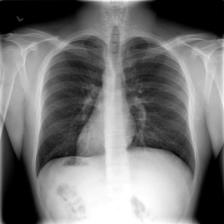normal: (35, 31, 199, 186)
